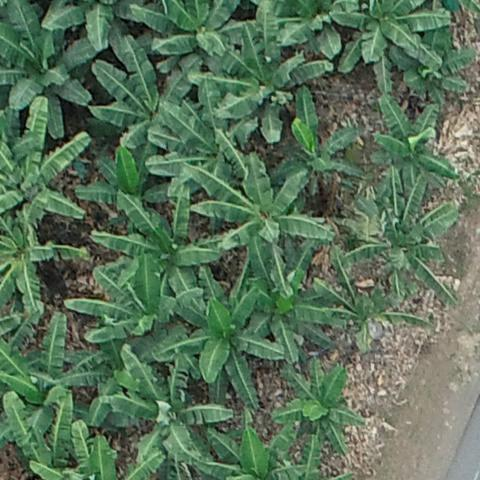Banana-plant: (186, 157, 336, 259), (344, 179, 459, 305), (113, 347, 234, 466), (169, 272, 279, 395), (0, 0, 94, 140), (98, 190, 221, 294), (304, 250, 433, 349), (194, 43, 329, 136), (84, 43, 199, 151), (68, 261, 200, 352), (0, 93, 89, 226), (243, 259, 343, 365), (2, 313, 76, 434), (0, 213, 84, 319), (371, 93, 463, 189), (276, 360, 365, 453), (287, 89, 366, 193), (335, 0, 449, 71), (280, 360, 361, 459), (132, 0, 265, 55), (152, 110, 244, 187), (82, 146, 159, 214), (267, 0, 354, 59), (208, 428, 305, 480)
